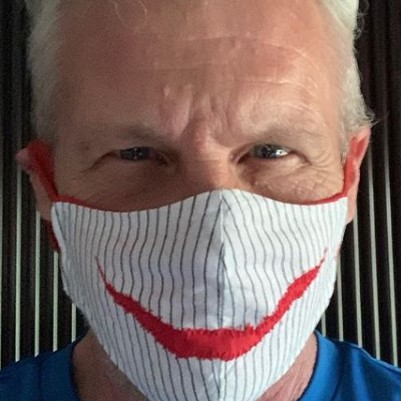face_with_mask: (15, 8, 369, 395)
